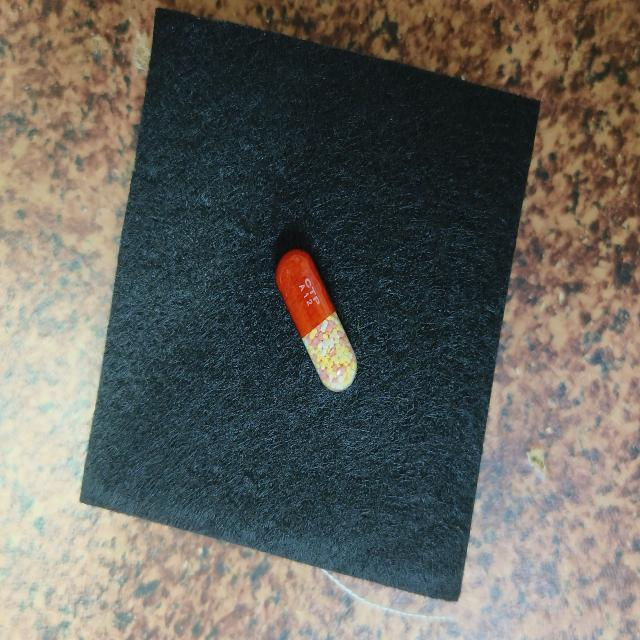Intact Capsule: (276, 249, 357, 391)
